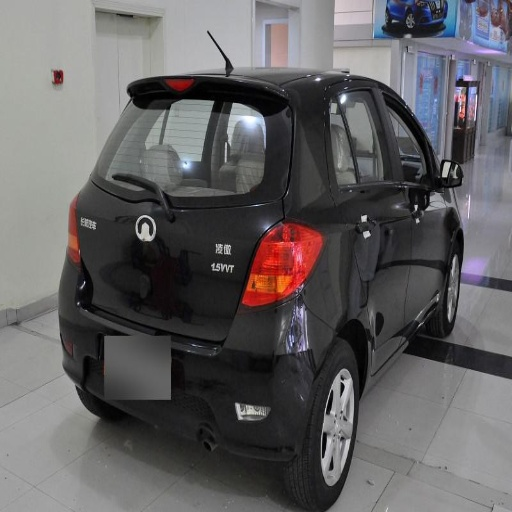back_bumper: (66, 275, 330, 459)
back_right_door: (329, 84, 412, 351)
tailgate: (182, 228, 263, 341)
trunk: (82, 177, 281, 332)
